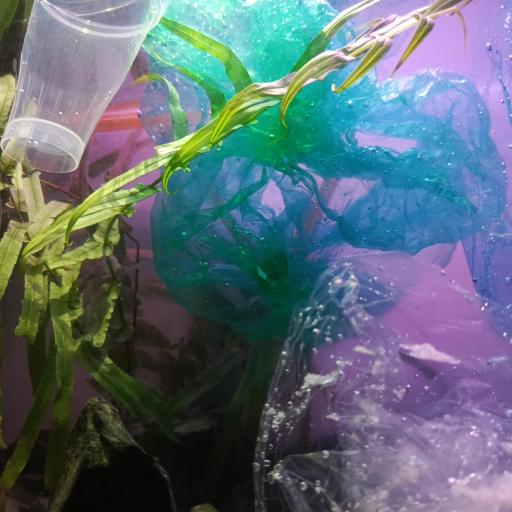plastic_bag: (147, 0, 512, 352), (255, 246, 512, 512)
plastic_cup: (0, 0, 163, 175)
plastic_straw: (92, 102, 180, 134)
